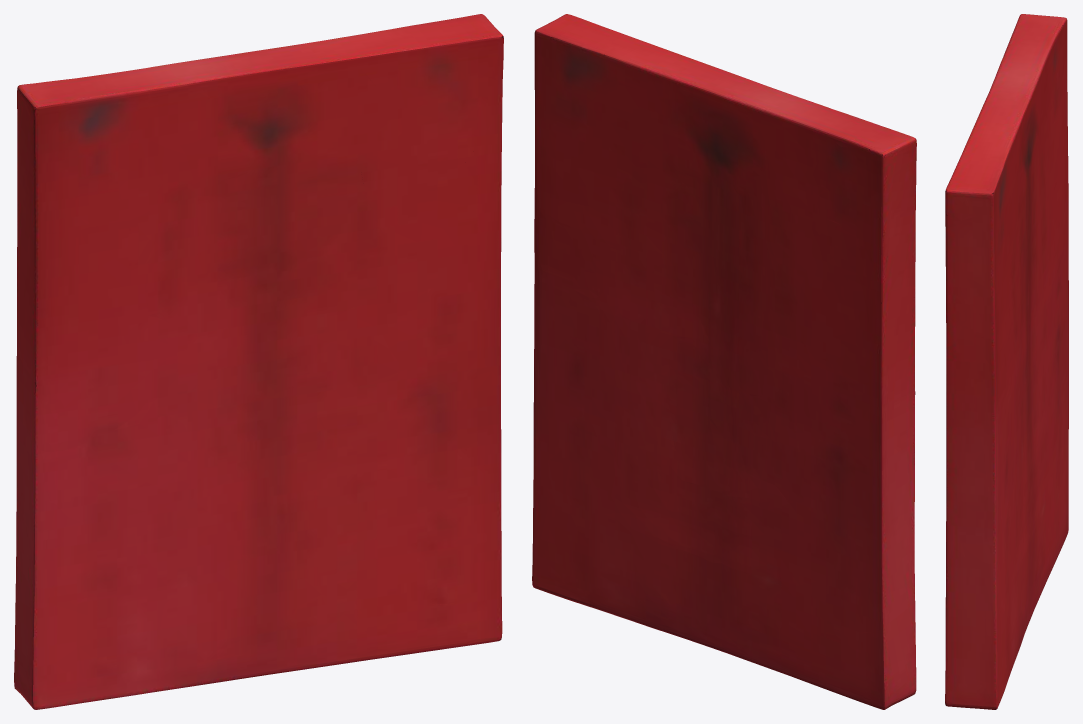
Rendered from red_paper_poster_on_wall_000.glb.
The picture shows the model from 3 angles, left to right: view 1: azimuth 30°, elevation 25°; view 2: azimuth 150°, elevation 25°; view 3: azimuth 270°, elevation 25°; orthographic projection. The views are drawn at different scales.
Parts seen in each view (by area): view 1: phase2_final_red_paper_poster_on_wall_000.obj; view 2: phase2_final_red_paper_poster_on_wall_000.obj; view 3: phase2_final_red_paper_poster_on_wall_000.obj.
Boxes of the visible parts, x1,y1,x2,y2 form: phase2_final_red_paper_poster_on_wall_000.obj: (14,14,503,709); phase2_final_red_paper_poster_on_wall_000.obj: (532,14,916,709); phase2_final_red_paper_poster_on_wall_000.obj: (945,14,1068,709).
Bounding box in the file's own units: 0.149 × 0.1989 × 0.0431.
1 material, 1 textured.
